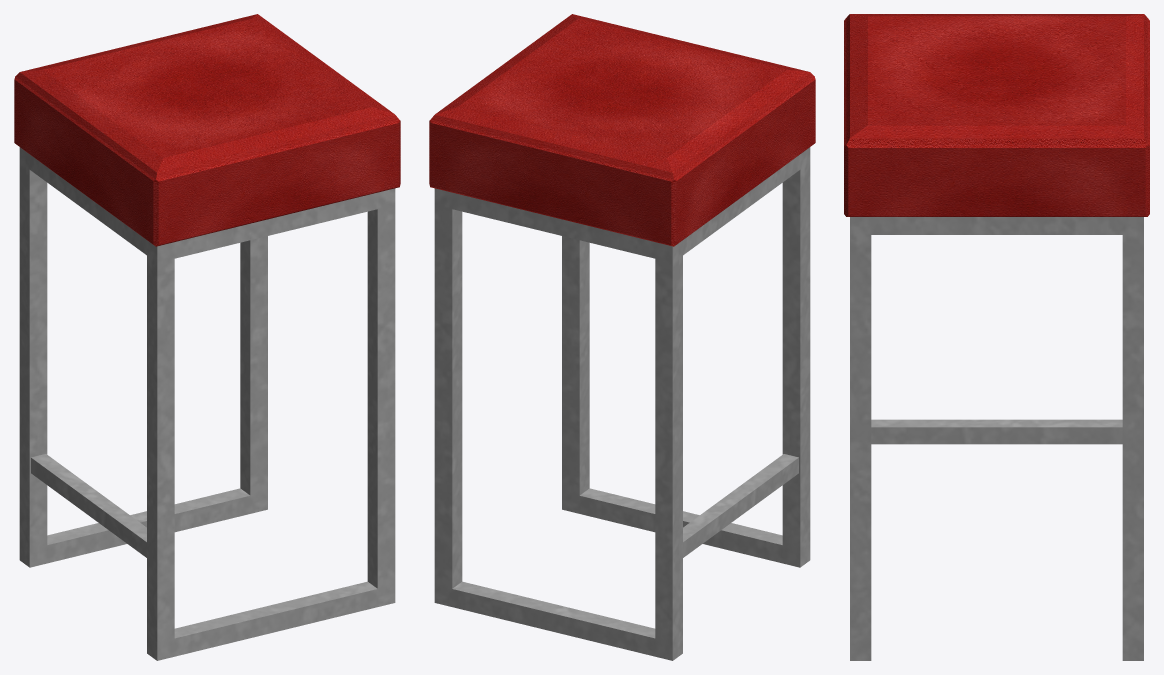
Rendered from P_StoolB.fbx.
3 renders of one model, left to right at view 1: azimuth 30°, elevation 25°; view 2: azimuth 150°, elevation 25°; view 3: azimuth 270°, elevation 25°, orthographic. The views are drawn at different scales.
Parts seen in each view (by area): view 1: Empty_Mesh; view 2: Empty_Mesh; view 3: Empty_Mesh.
Boxes of the visible parts, x1=… form: Empty_Mesh: x1=14, y1=14, x2=400, y2=660; Empty_Mesh: x1=429, y1=14, x2=815, y2=660; Empty_Mesh: x1=844, y1=14, x2=1149, y2=660.
Size of the model in its own units: 0.426 by 0.8117 by 0.426.
